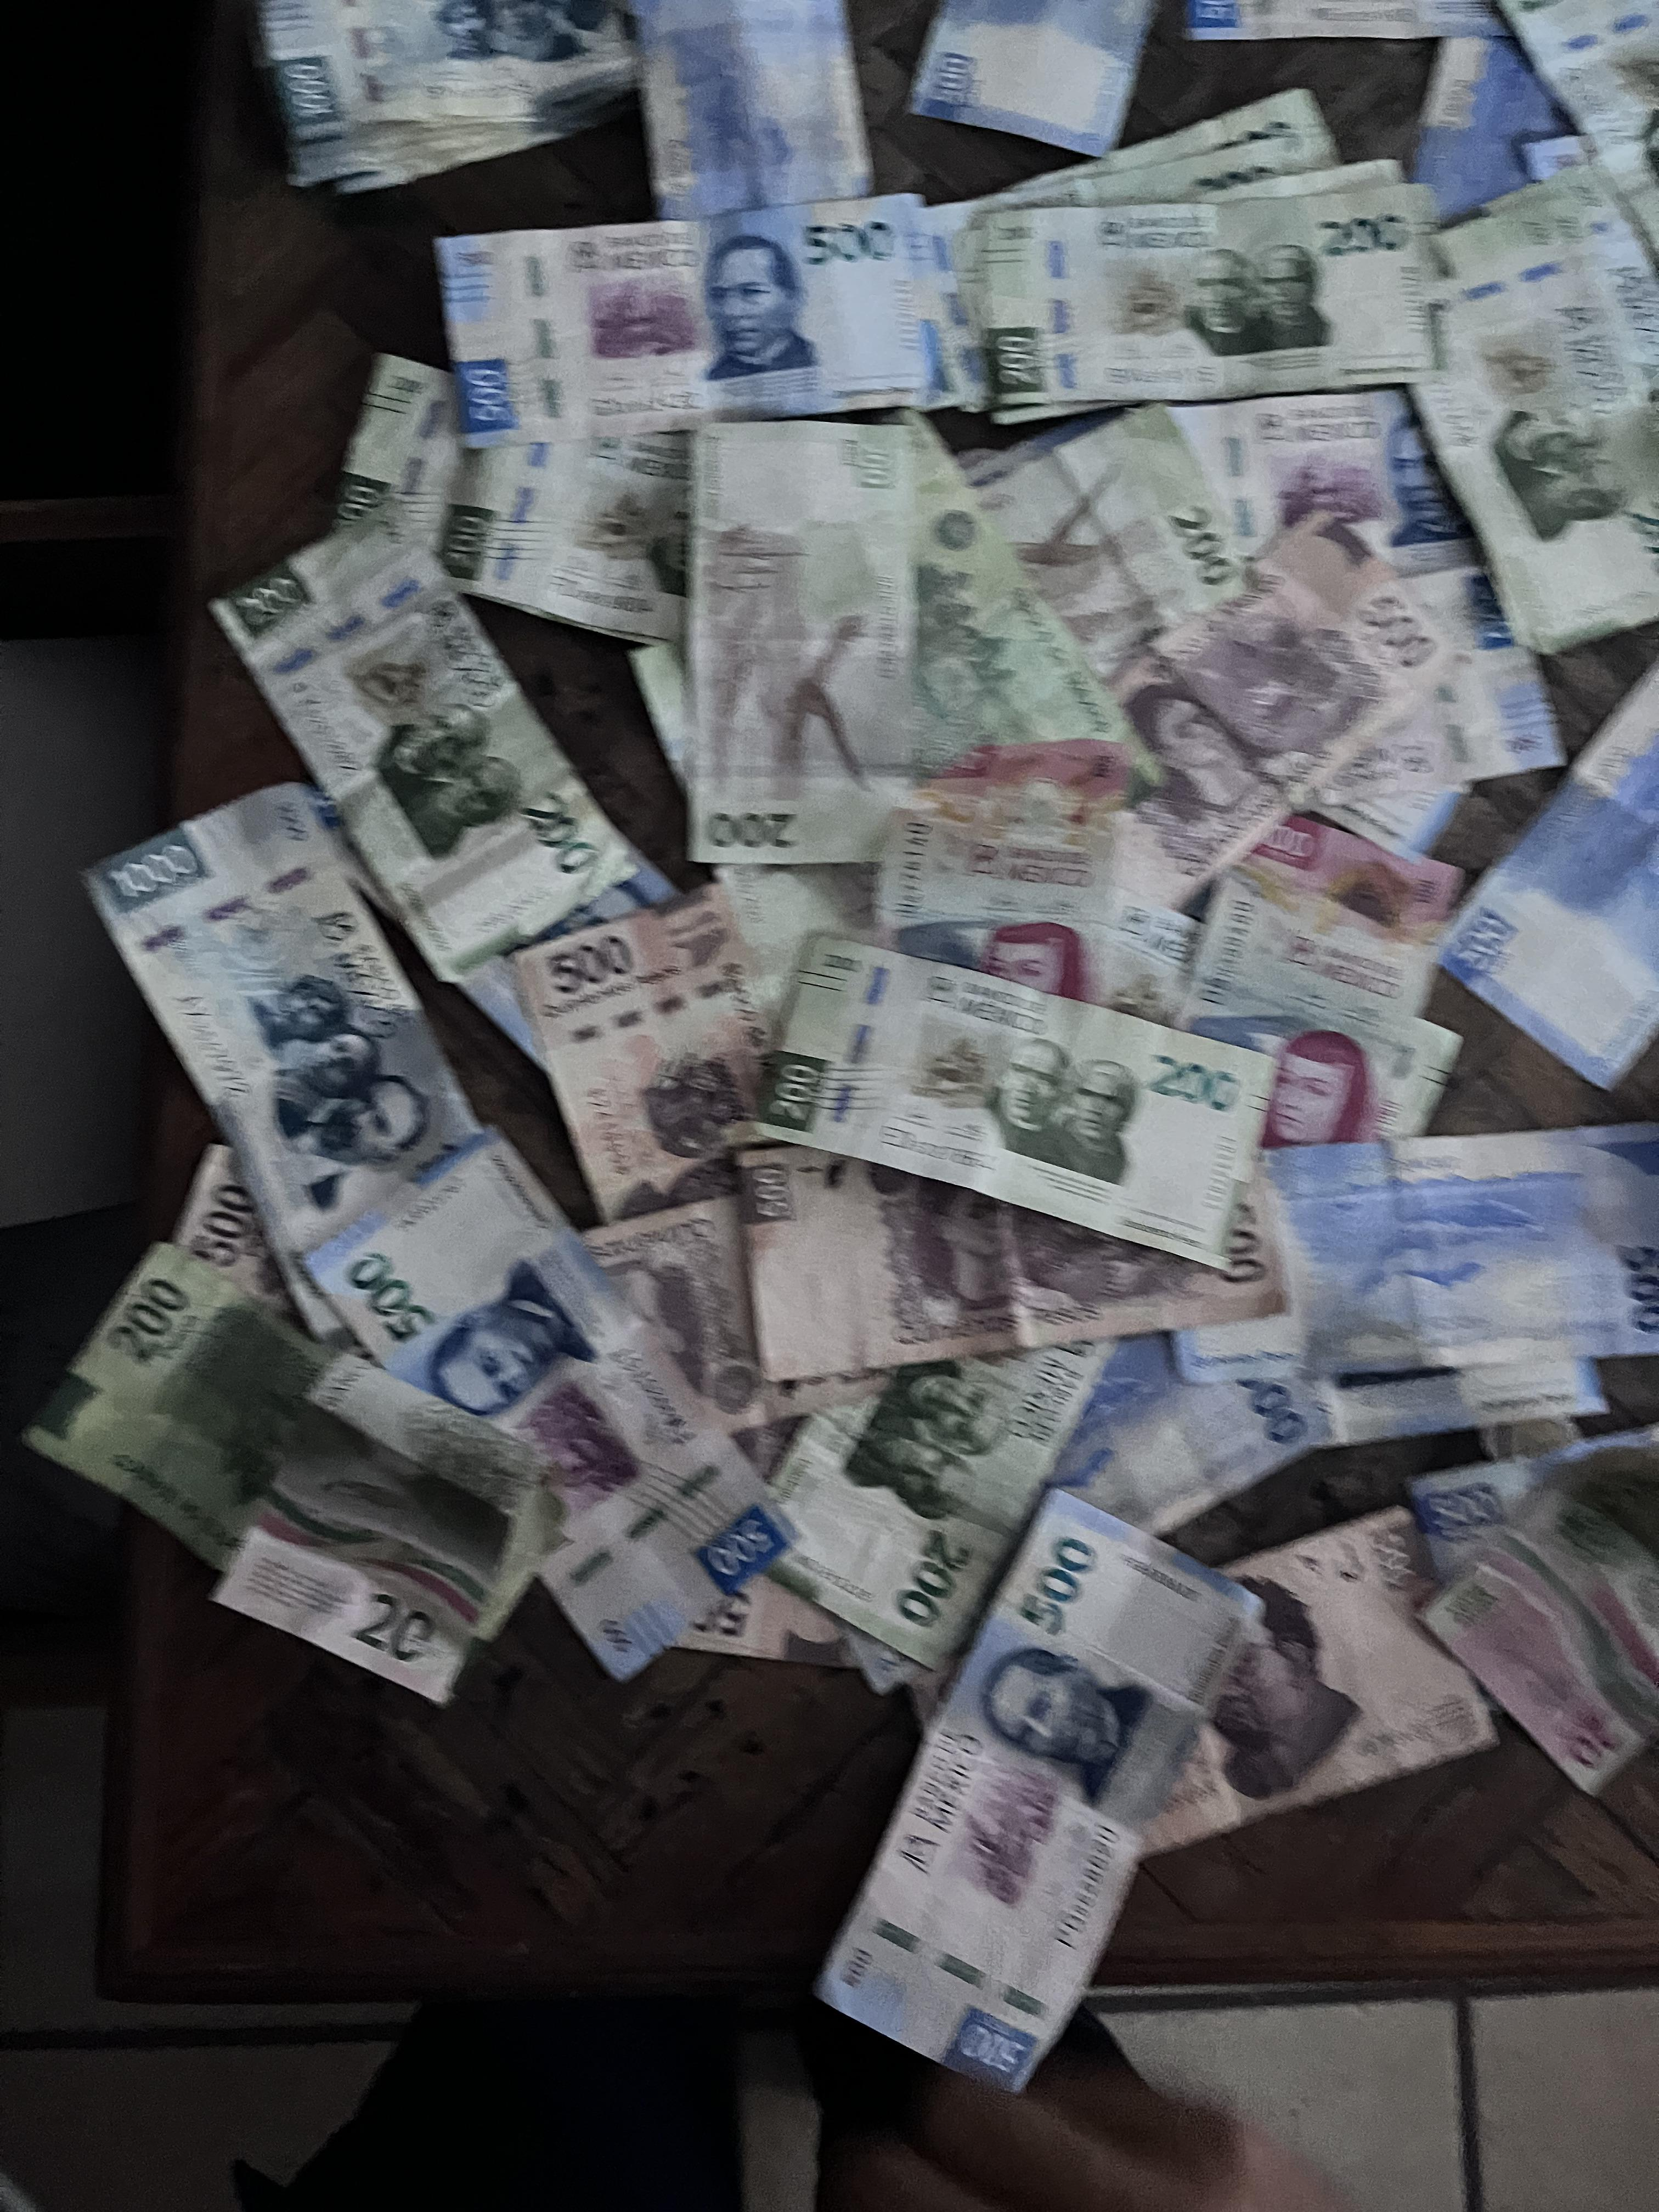100: (1218, 773, 1446, 1146), (878, 712, 1121, 1017)
1000: (71, 738, 502, 1362), (247, 0, 671, 204)
20: (1419, 1418, 1659, 1831), (247, 1345, 519, 1703)
200: (192, 507, 648, 995), (741, 911, 1290, 1289), (0, 1240, 385, 1623), (350, 354, 786, 660), (775, 1317, 1117, 1695), (1368, 211, 1659, 639), (816, 411, 1141, 787), (683, 404, 927, 885), (943, 181, 1448, 413), (951, 371, 1269, 636), (1466, 0, 1659, 284)
500: (1072, 1493, 1513, 1862), (1100, 482, 1448, 895), (525, 900, 803, 1251)
500 nuevo: (279, 1158, 807, 1695), (788, 1479, 1225, 2097), (390, 192, 955, 448), (1141, 1132, 1659, 1381), (1443, 611, 1659, 1089), (620, 0, 878, 225), (887, 0, 1162, 153)
